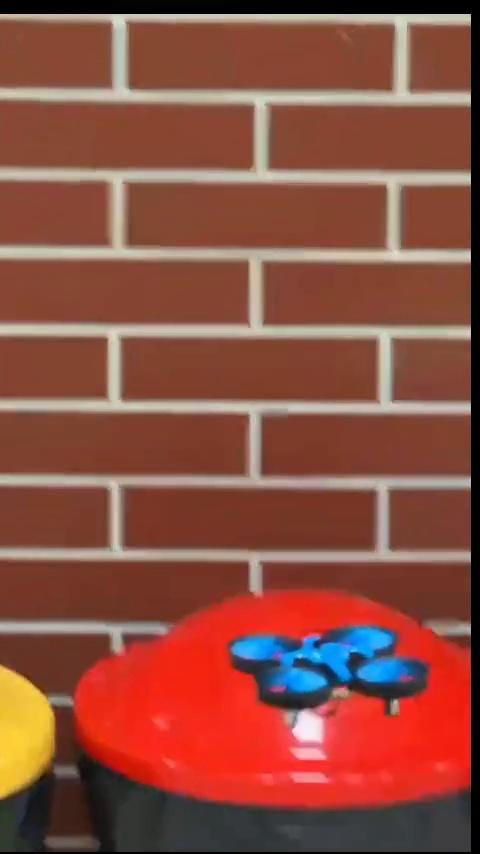drone: (227, 633, 437, 722)
